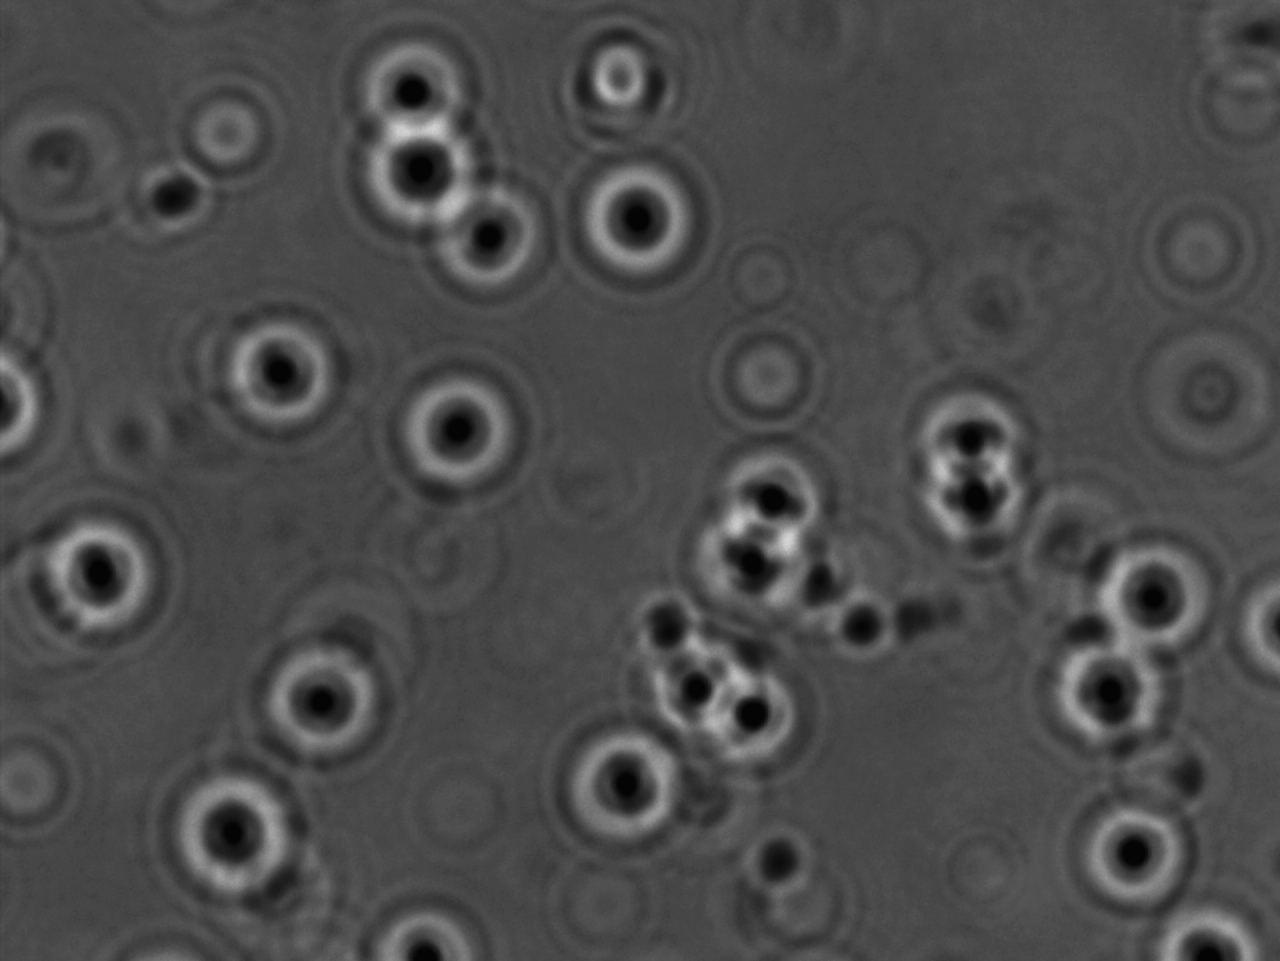depth:-24: (138, 756, 305, 907), (1029, 617, 1179, 771), (1090, 523, 1236, 680), (885, 439, 1040, 575), (385, 363, 528, 507), (403, 171, 546, 311), (568, 155, 712, 295), (338, 101, 482, 236), (37, 509, 175, 648), (560, 717, 697, 848), (253, 633, 376, 778), (1073, 792, 1210, 916), (901, 353, 1028, 487), (334, 16, 473, 135), (222, 312, 355, 436)
